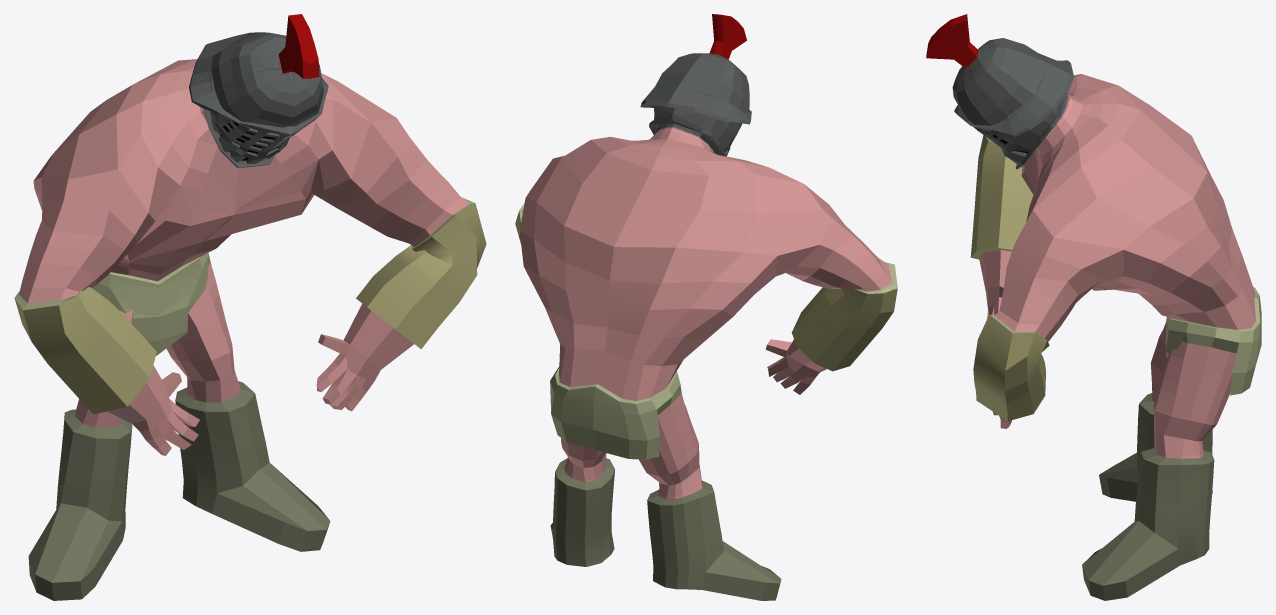
The model's file is GladiatorCelebracion_000479.obj.
The picture shows the model from 3 angles, left to right: view 1: azimuth 30°, elevation 25°; view 2: azimuth 150°, elevation 25°; view 3: azimuth 270°, elevation 25°; orthographic projection. The views are drawn at different scales.
Parts seen in each view (by area): view 1: Gadiador_Gladiador_H; view 2: Gadiador_Gladiador_H; view 3: Gadiador_Gladiador_H.
Part boxes in pixels (left/top/right/bottom): Gadiador_Gladiador_H: left=14, top=14, right=486, bottom=600; Gadiador_Gladiador_H: left=515, top=14, right=897, bottom=600; Gadiador_Gladiador_H: left=926, top=14, right=1261, bottom=600.
Bounding box in the file's own units: 5.03 × 6.4 × 3.61.
1 material, 1 textured.
